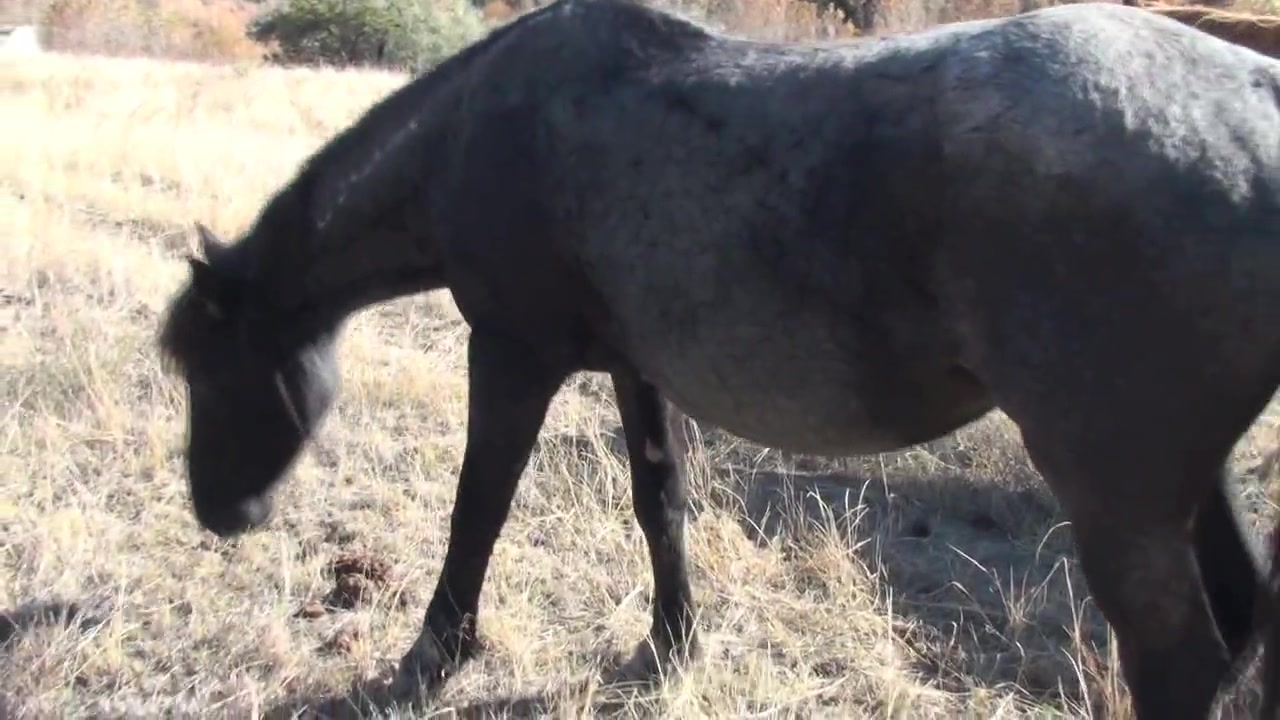horse: (157, 1, 1280, 720)
